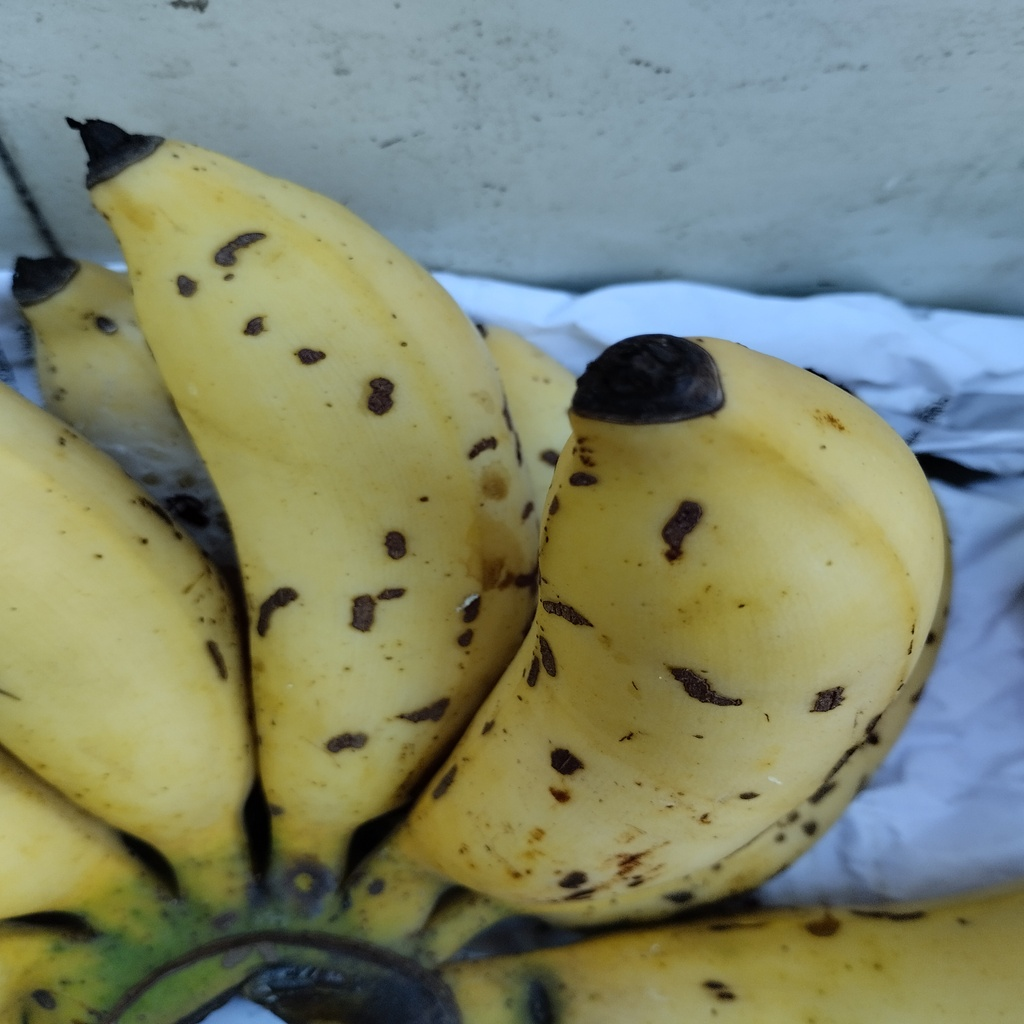unhealthy: (85, 118, 539, 826), (414, 339, 947, 918)
